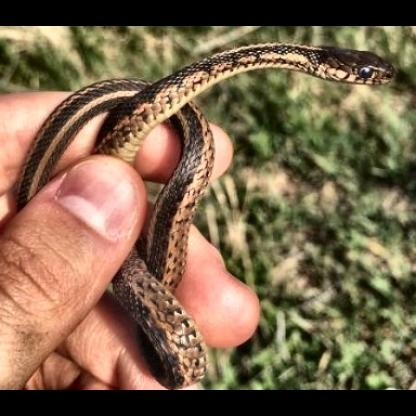Snake: (38, 40, 398, 356)
